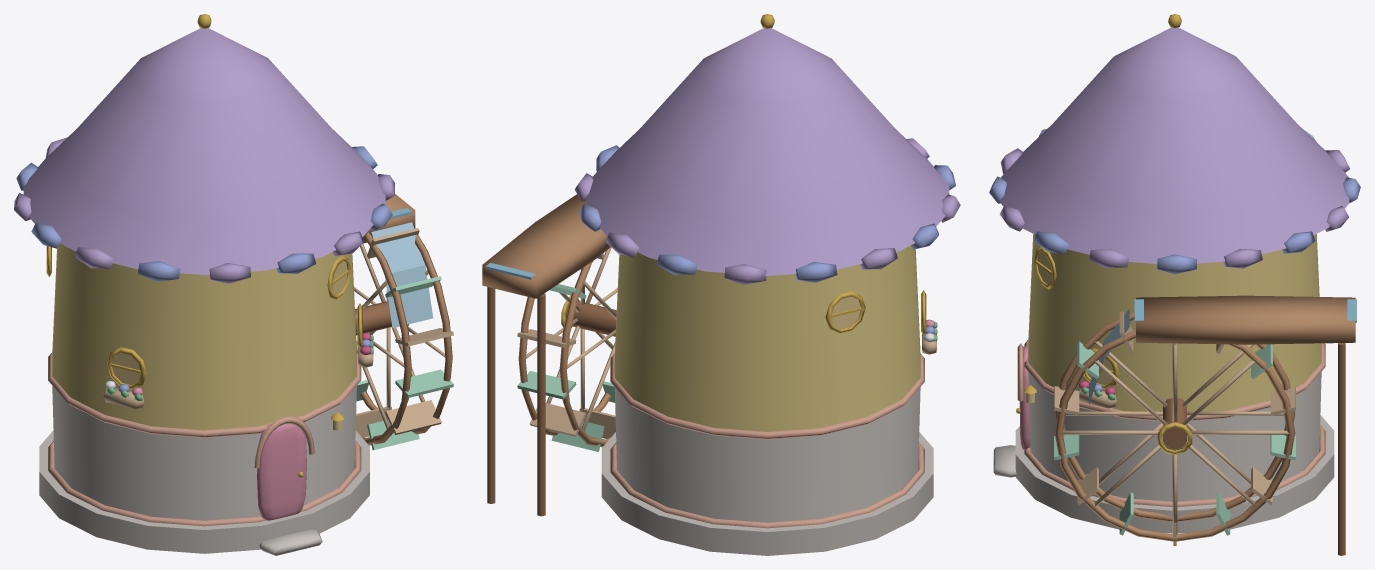
Rendered from fae_mill.gltf.
3 views of the same model, side by side, from view 1: azimuth 30°, elevation 25°; view 2: azimuth 150°, elevation 25°; view 3: azimuth 270°, elevation 25° (orthographic). The views are drawn at different scales.
Visible parts, largest first — view 1: fae_mill; view 2: fae_mill; view 3: fae_mill.
Boxes of the visible parts, x1,y1,x2,y2 form: fae_mill: (14, 14, 453, 555); fae_mill: (482, 14, 960, 555); fae_mill: (989, 14, 1360, 555).
Size of what is drawn, in the model's own units: 8.05 by 9.85 by 7.36.
